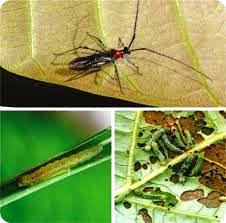Caterpillar: (17, 144, 104, 187), (126, 188, 174, 201), (144, 126, 165, 151), (180, 153, 195, 185), (163, 136, 184, 154), (152, 141, 168, 164), (171, 126, 186, 148)
Helopeltis-insect: (69, 42, 131, 76)
